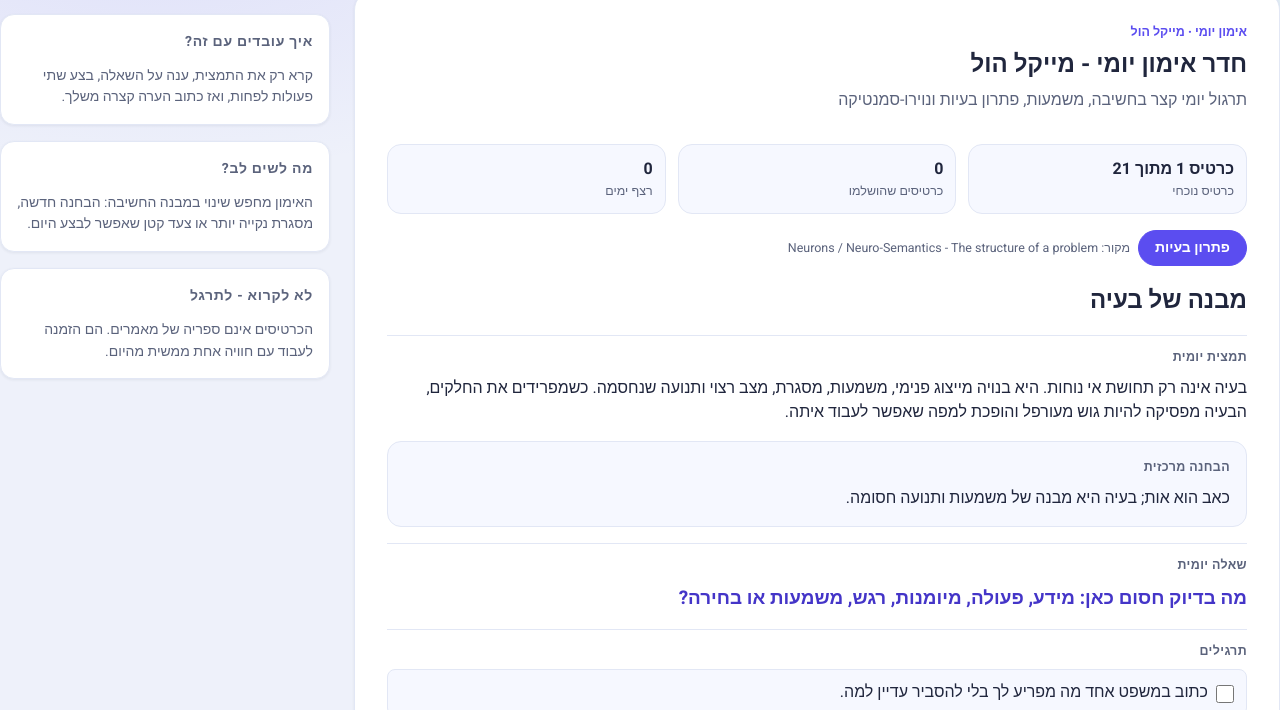
MichaelHallDailyGym › ends the day with a completion card naming what was practised and what comes next
Expected: the text "✓ סיימת להיום" is not shown
Click the checkbox at (1225,694), box [1216,685,1234,703]
(page scrolled)
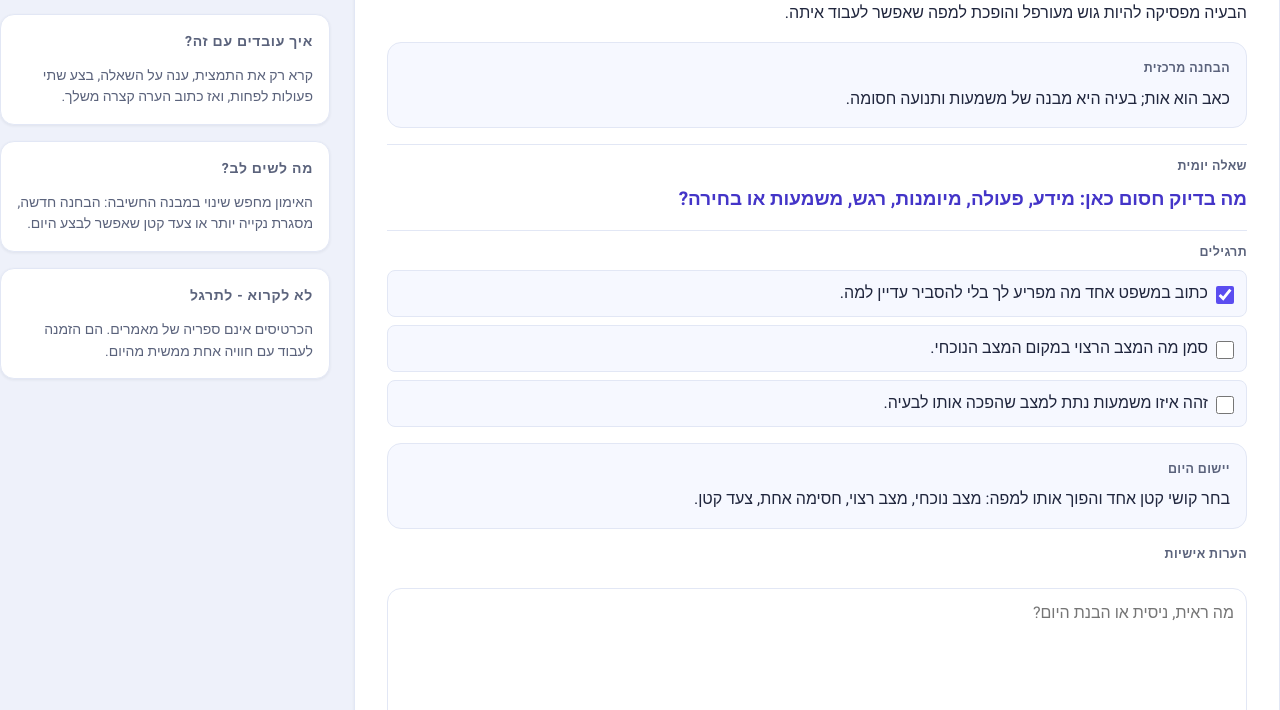
Click the checkbox labelled "סמן מה המצב הרצוי במקום המצב הנוכחי." at (1225,350), box [1216,341,1234,359]
(page scrolled)
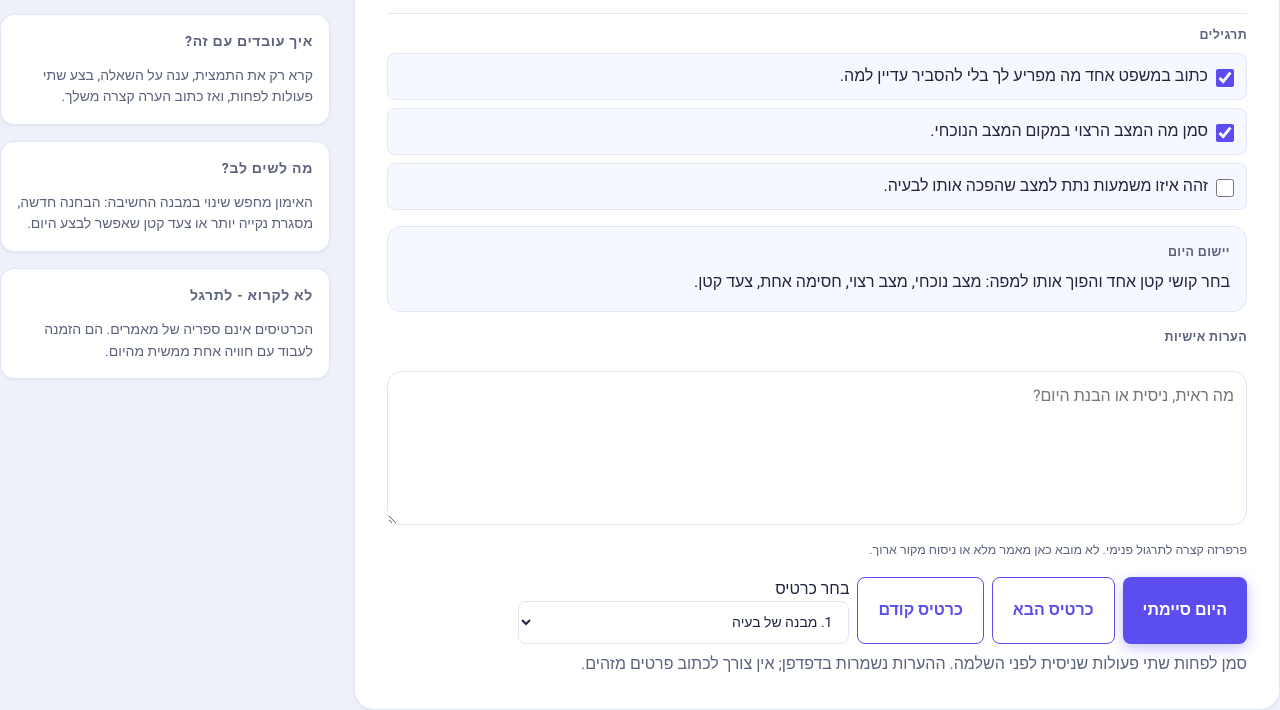
Click the button "היום סיימתי" at (1185,610), box [1123,576,1247,644]
(page scrolled)
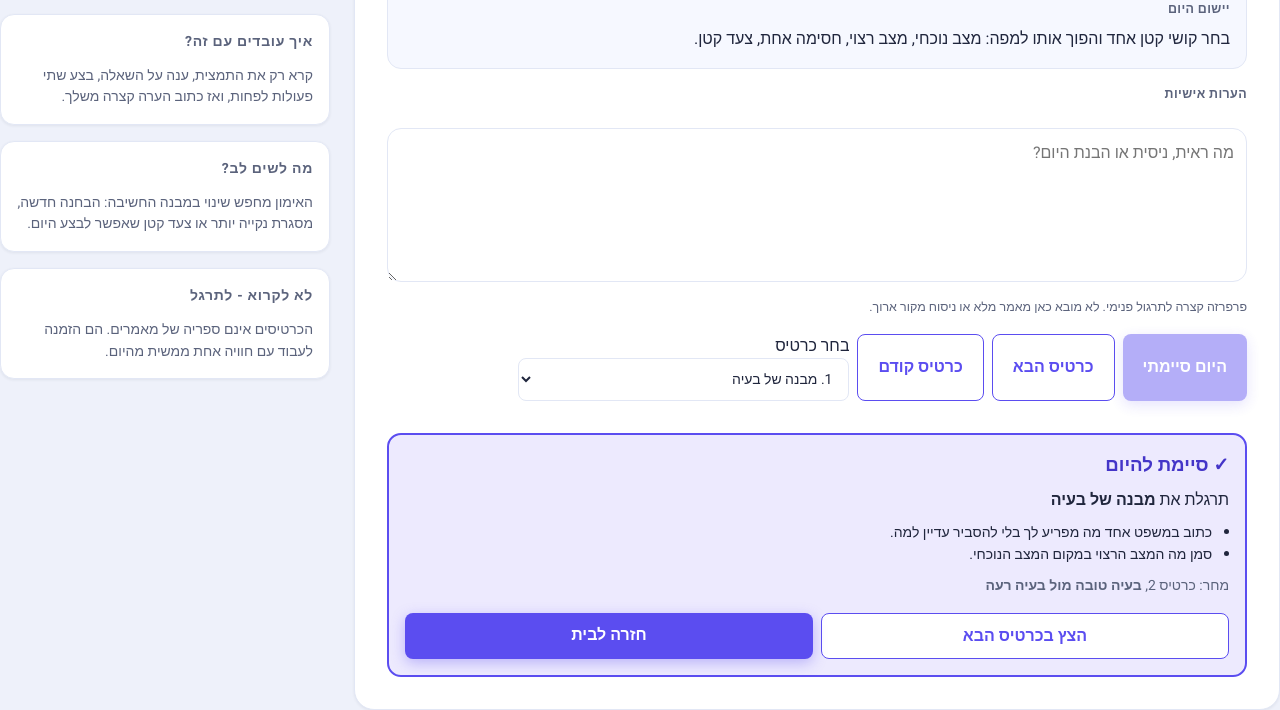
Now the heading "✓ סיימת להיום" is shown, box [1105,451,1229,479]
Now the list item "כתוב במשפט אחד מה מפריע לך בלי להסביר עדיין למה." is shown, box [890,522,1212,543]
Now the text "בעיה טובה מול בעיה רעה" is shown, box [985,575,1142,596]
